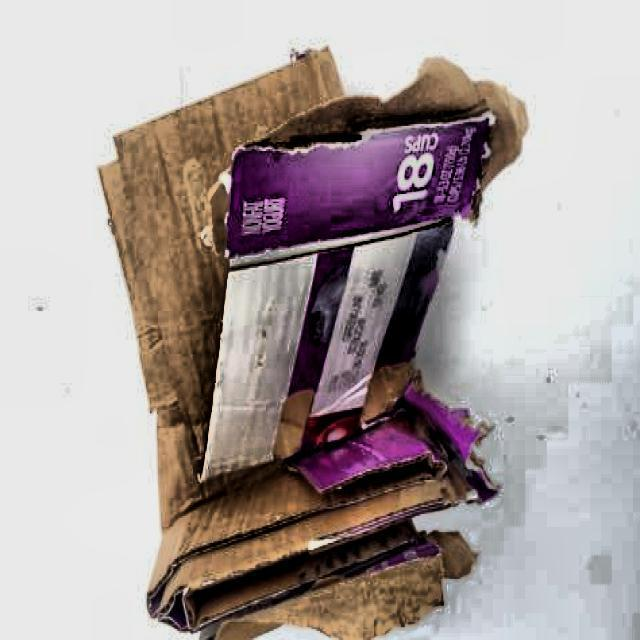cardboard: (96, 43, 509, 640)
